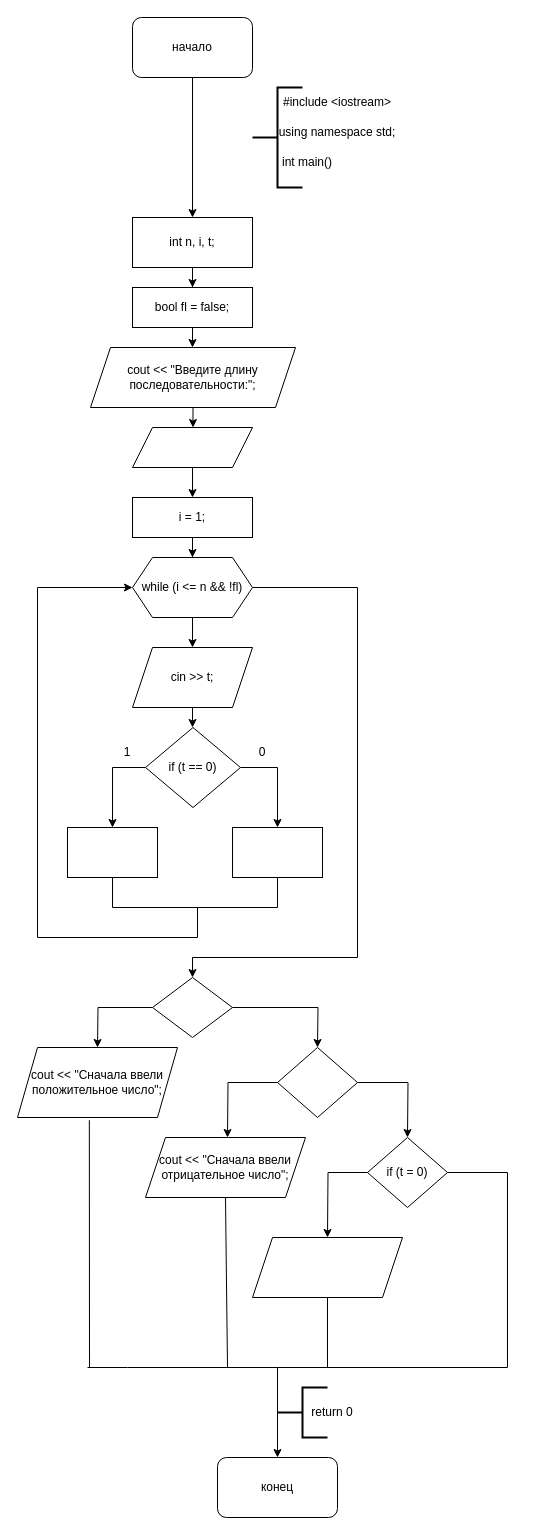
This 533x1535 diagram has some shape labels left out. The box of each missing label's shape, as (x1, y1, x2, y2) in pixels:
cin >> n;: (132, 426, 252, 468)
cout << "Сначала ввели ноль";: (252, 1236, 402, 1298)
fl = true;: (232, 826, 322, 878)
i++;: (66, 826, 158, 878)
if (t<0): (276, 1046, 358, 1118)
if (t>0): (152, 976, 232, 1038)
